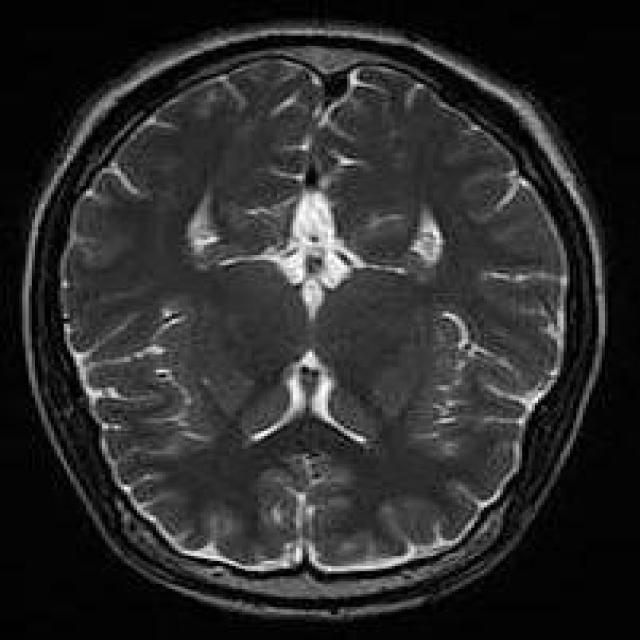notumor: (22, 28, 602, 617)
